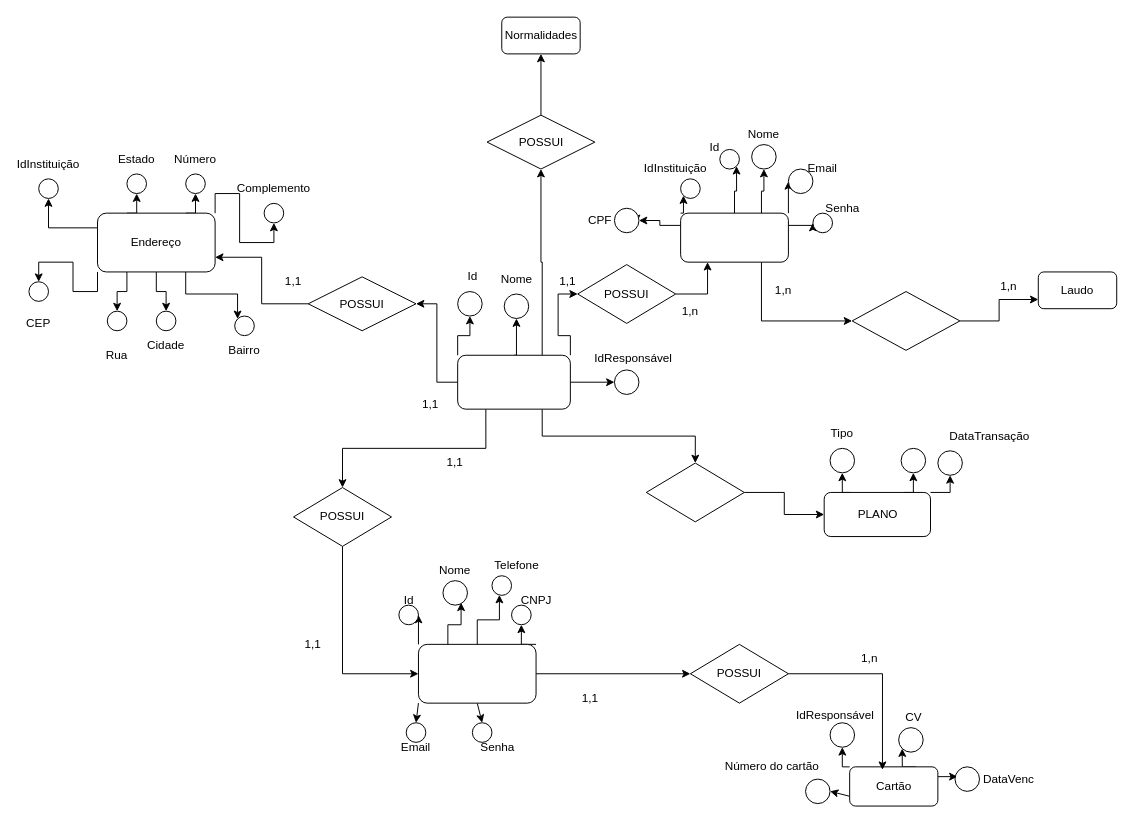
The diagram is 1134 pixels wide and 823 high, and some of its shapes have lost their labels. The centre of each missing label's shape, as x and y in pixels:
"ADQUIRIR" goes at [694,492].
"BioMédico" goes at [734,237].
"Faz" goes at [905,320].
"Instituição Física" goes at [513,381].
"Responsável" goes at [476,673].
